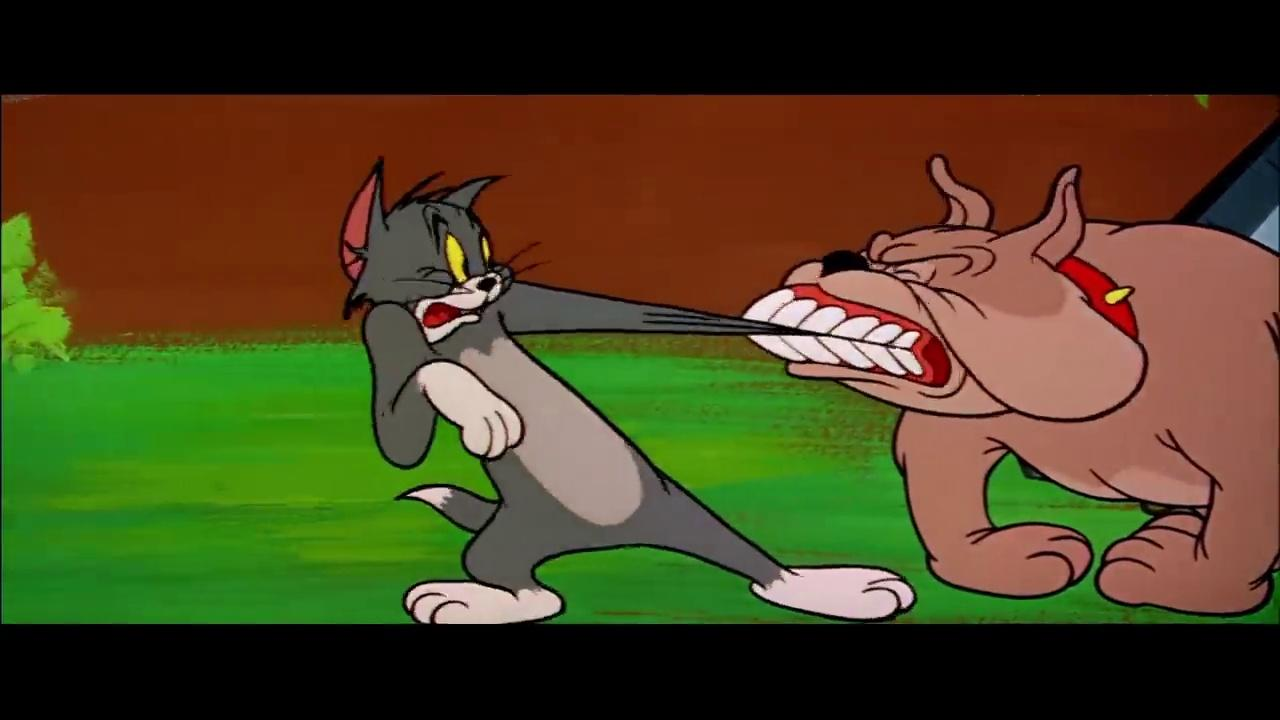Tom: (335, 152, 919, 622)
